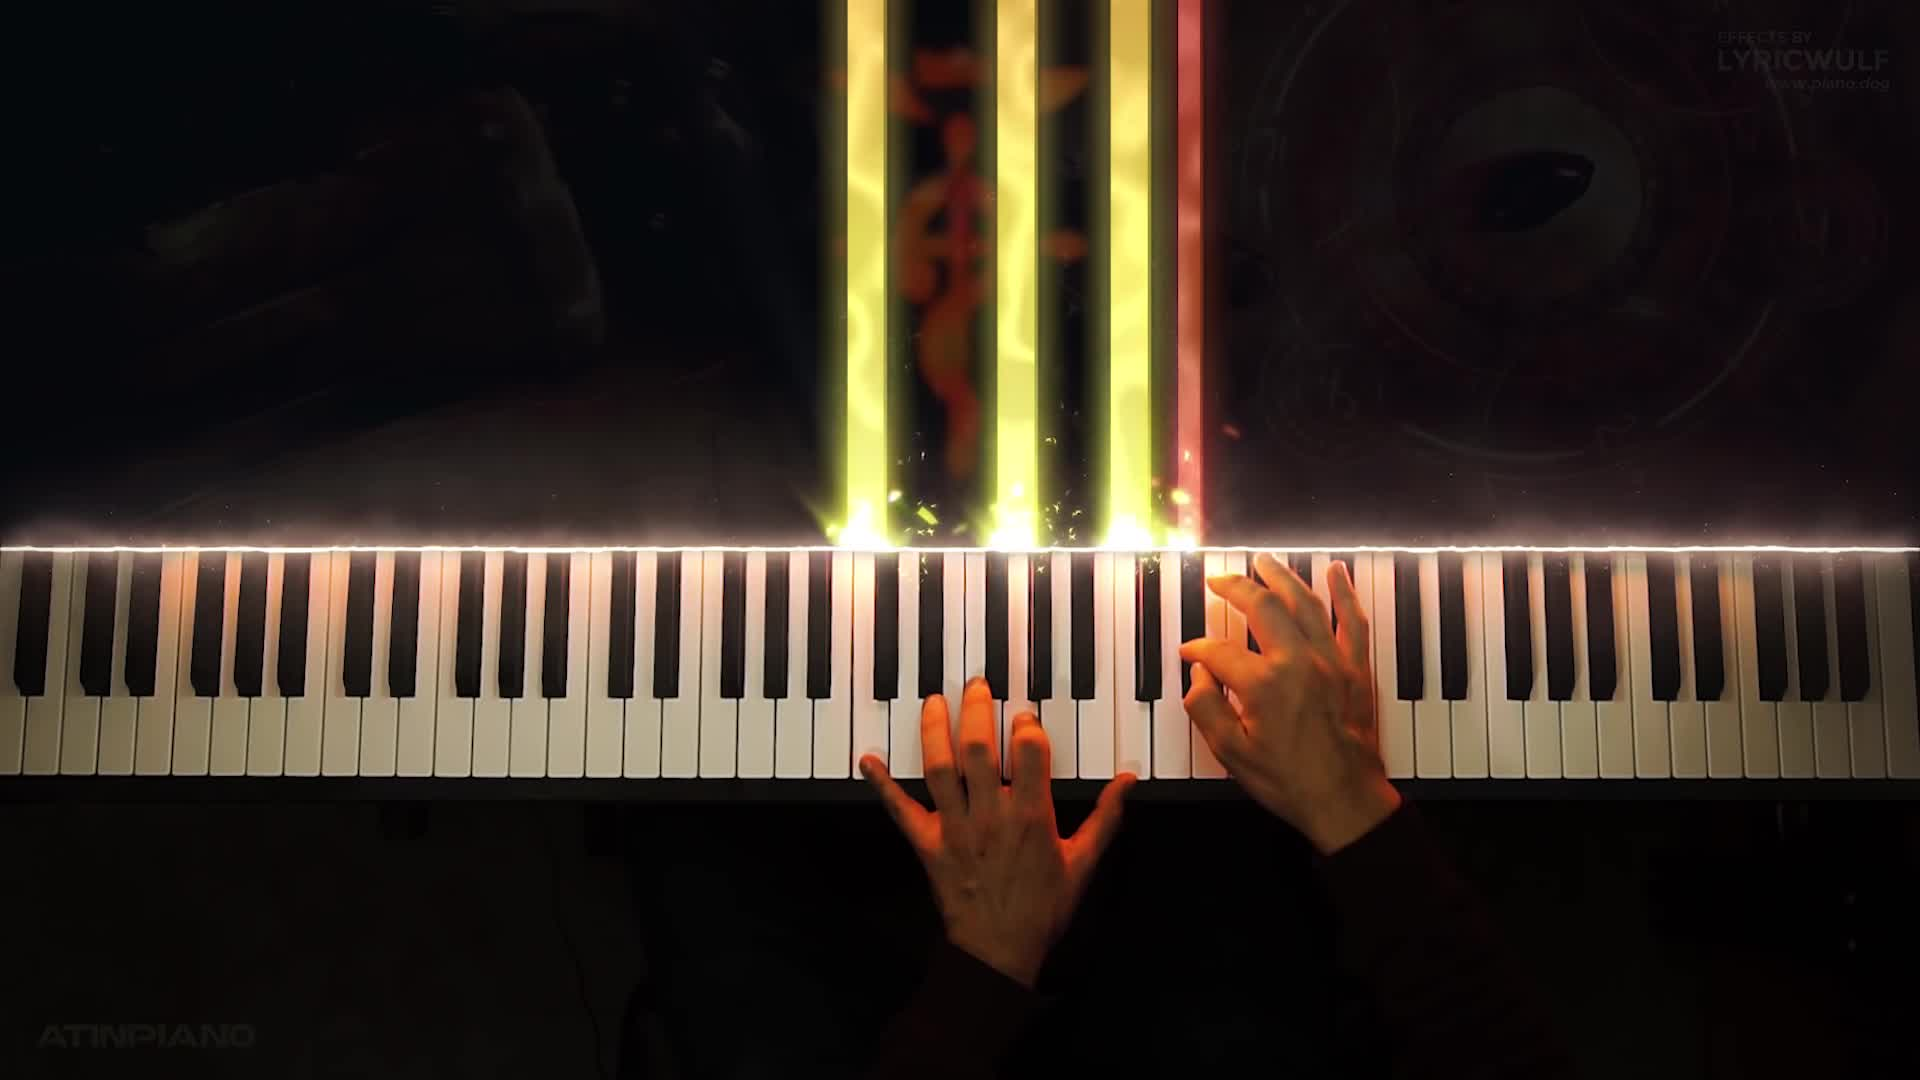left: (857, 674, 1145, 939)
right: (1170, 549, 1390, 822)
